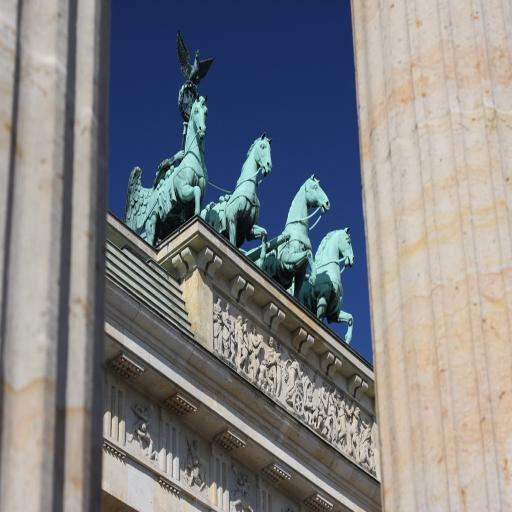Horse: (254, 171, 332, 301), (200, 128, 272, 262), (148, 93, 210, 244), (286, 224, 354, 346)
